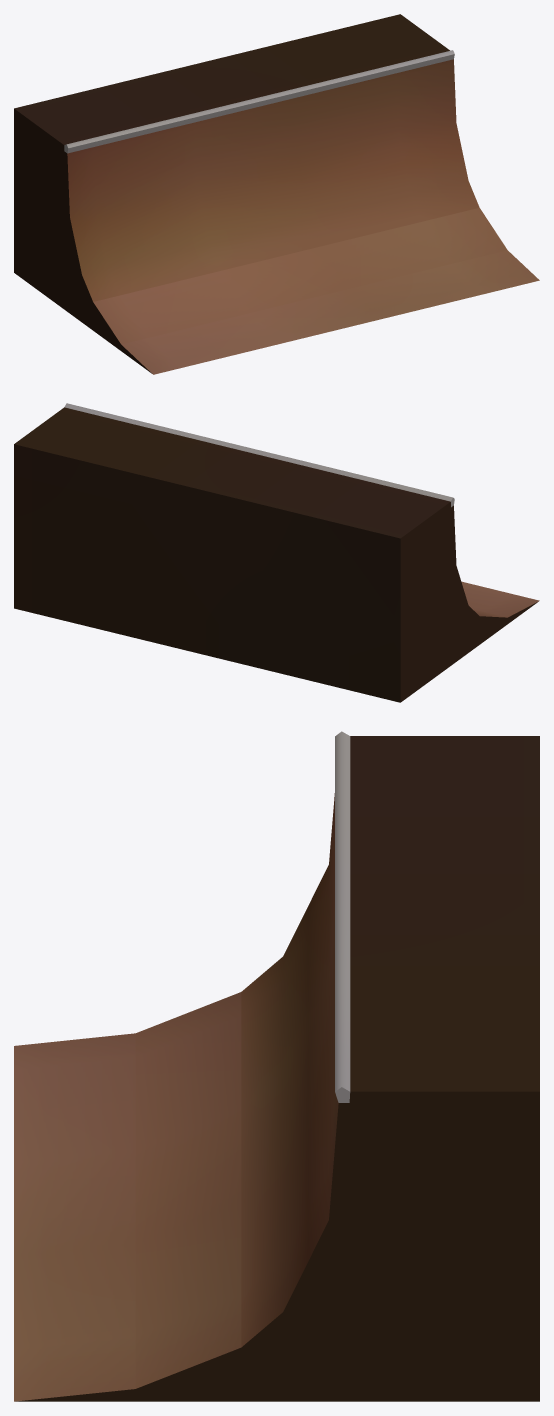
Rendered from SkateboardVertWall.glb.
3 views of the same model, one above another, from view 1: azimuth 30°, elevation 25°; view 2: azimuth 150°, elevation 25°; view 3: azimuth 270°, elevation 25° (orthographic). The views are drawn at different scales.
Visible parts, largest first — view 1: SkateboardVertWall; view 2: SkateboardVertWall; view 3: SkateboardVertWall.
Boxes of the visible parts, bbox=[...] form: SkateboardVertWall: bbox=[14, 14, 539, 374]; SkateboardVertWall: bbox=[14, 403, 539, 702]; SkateboardVertWall: bbox=[14, 731, 539, 1401].
Size of the model in its own units: 8 by 3.3 by 5.
Materials: 1 (1 with a texture image).
